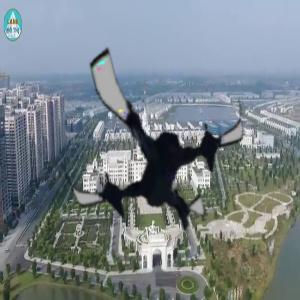drone: (51, 39, 255, 243)
